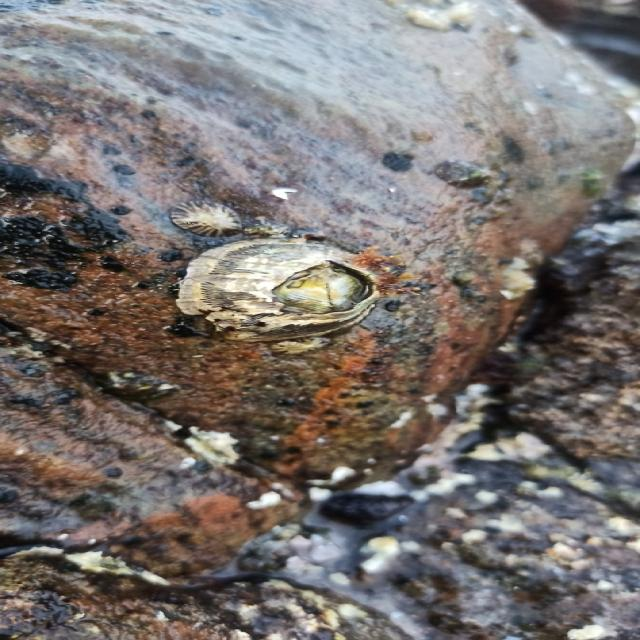barnacles: (173, 238, 390, 346)
